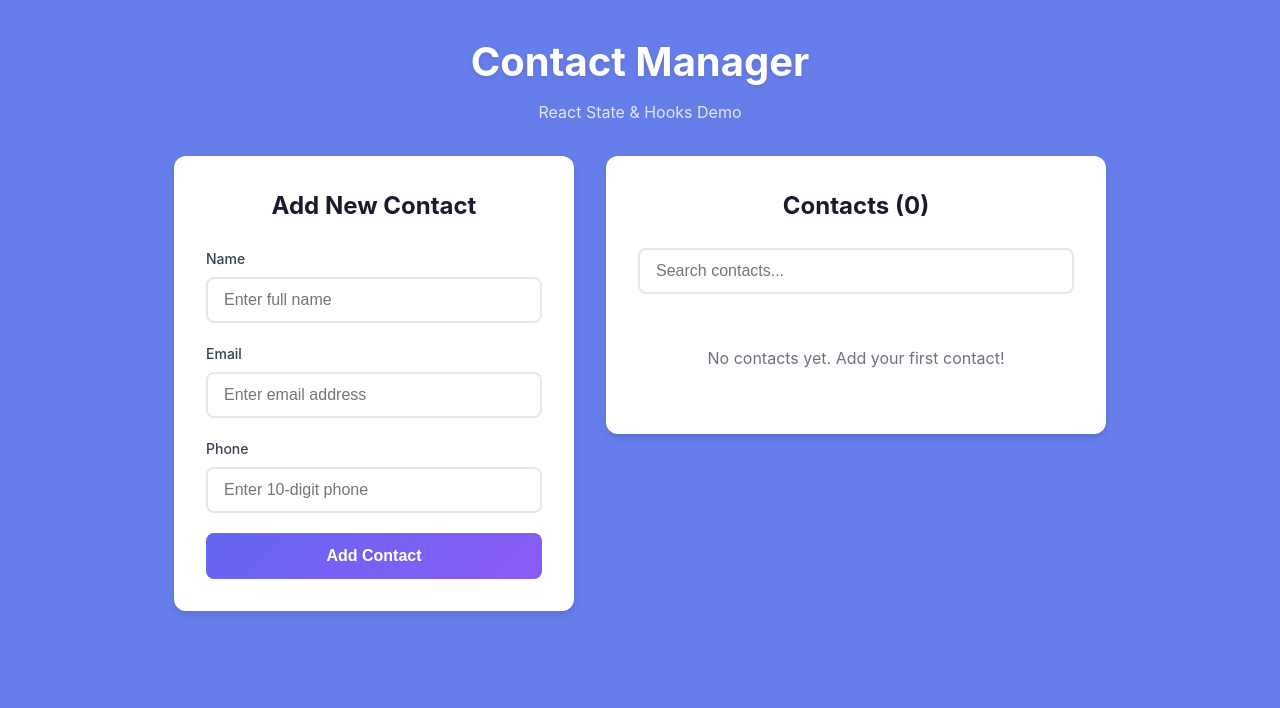
Test: App › deletes a contact from the list
# Add a contact first
Type "Delete Me" into the field labelled "Name" at (374, 300), box [206,277,542,323]
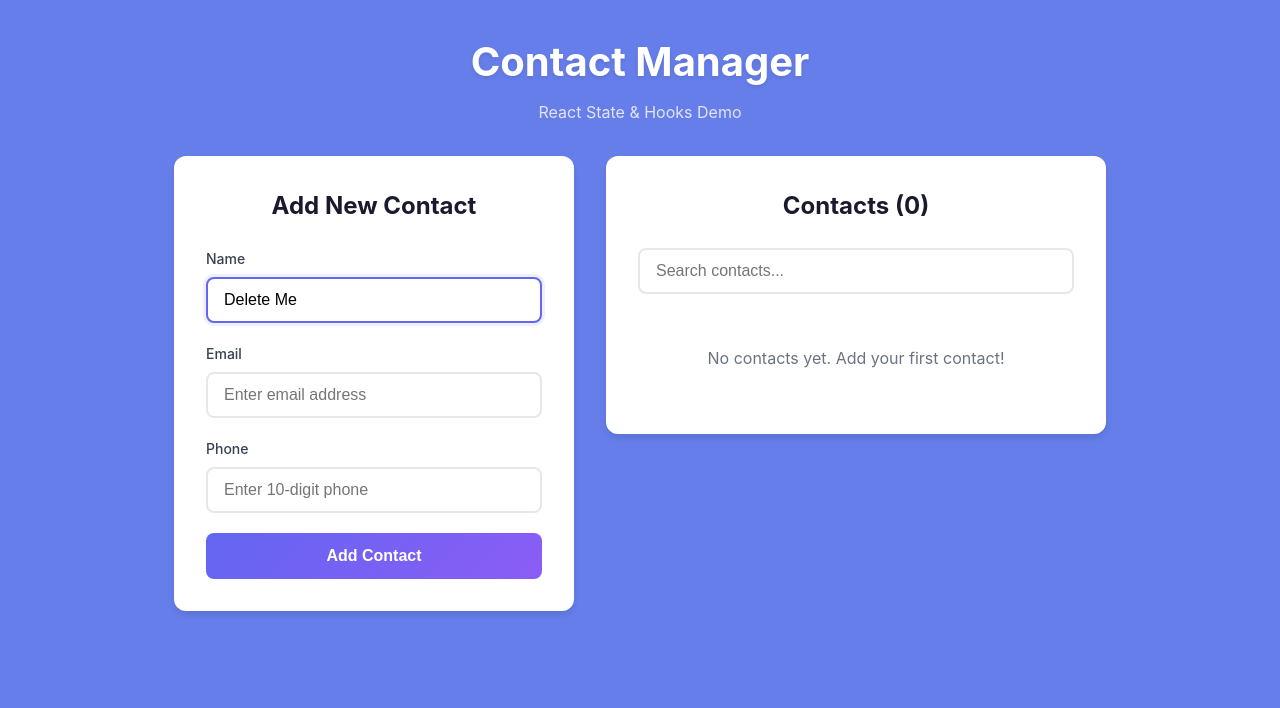
Type "delete@example.com" into the field labelled "Email" at (374, 395), box [206,372,542,418]
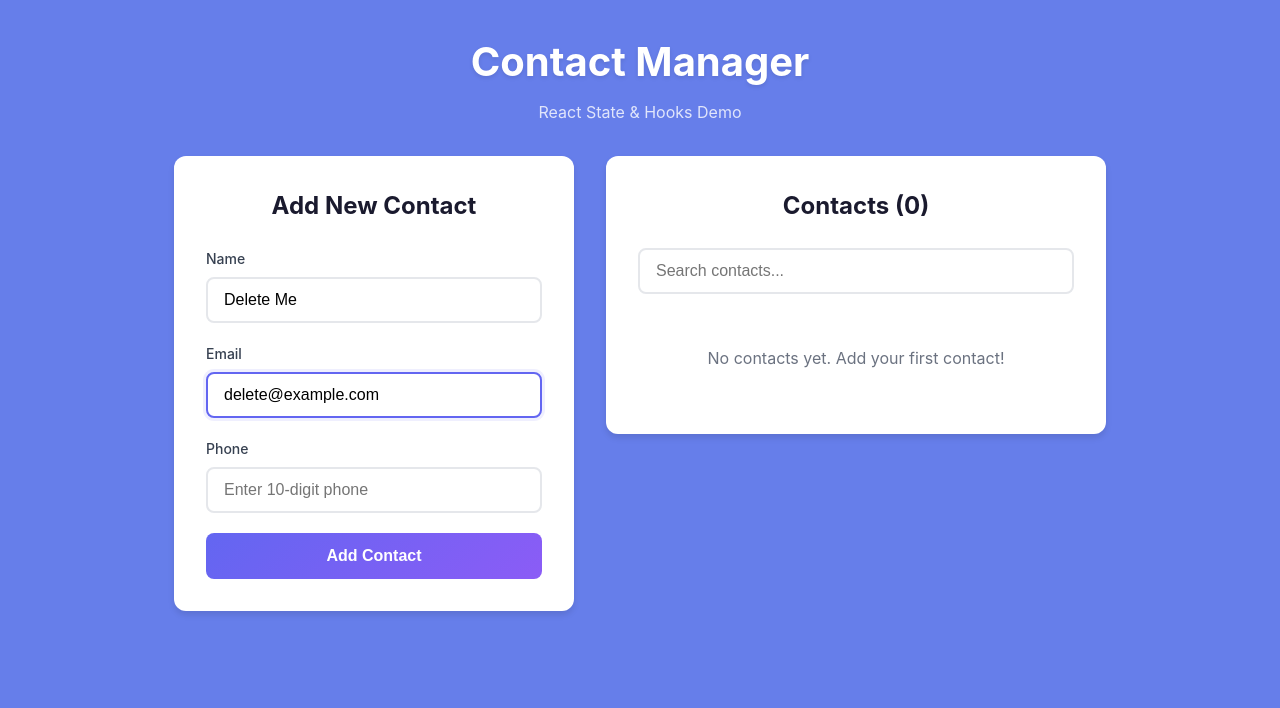
Type "1111111111" into the field labelled "Phone" at (374, 490), box [206,467,542,513]
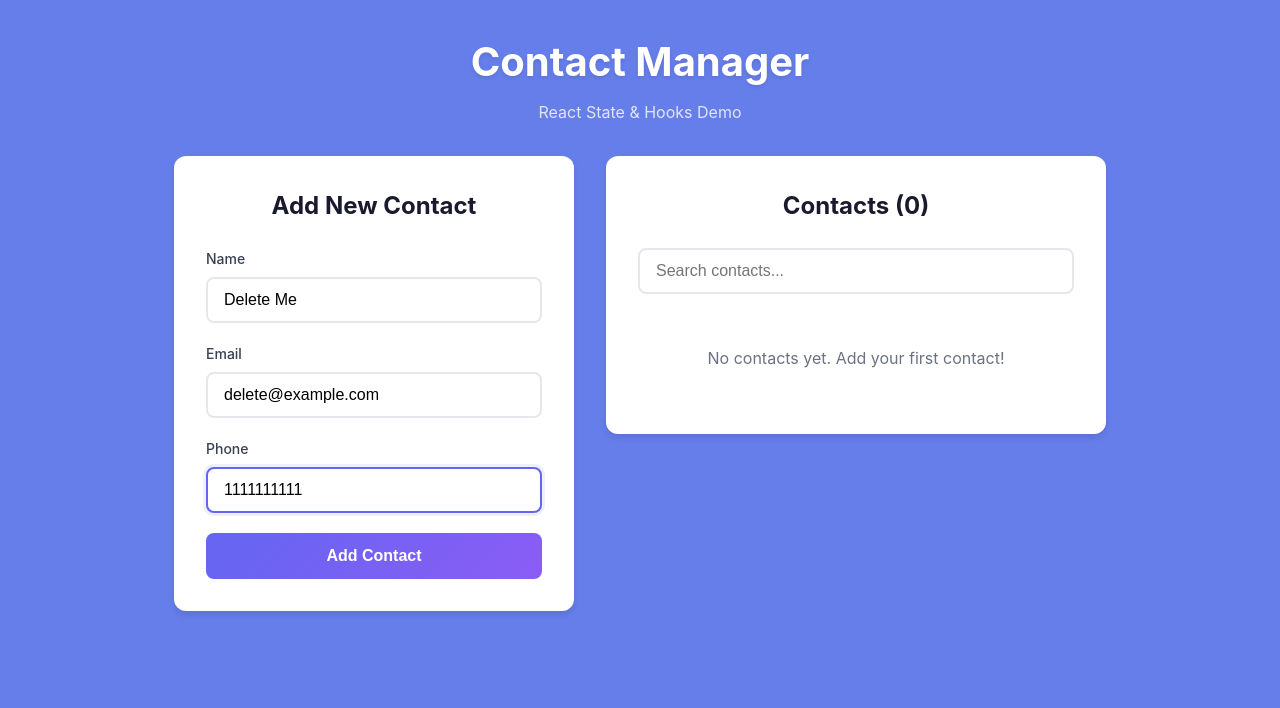
Click the button "Add Contact" at (374, 556), box [206,533,542,579]
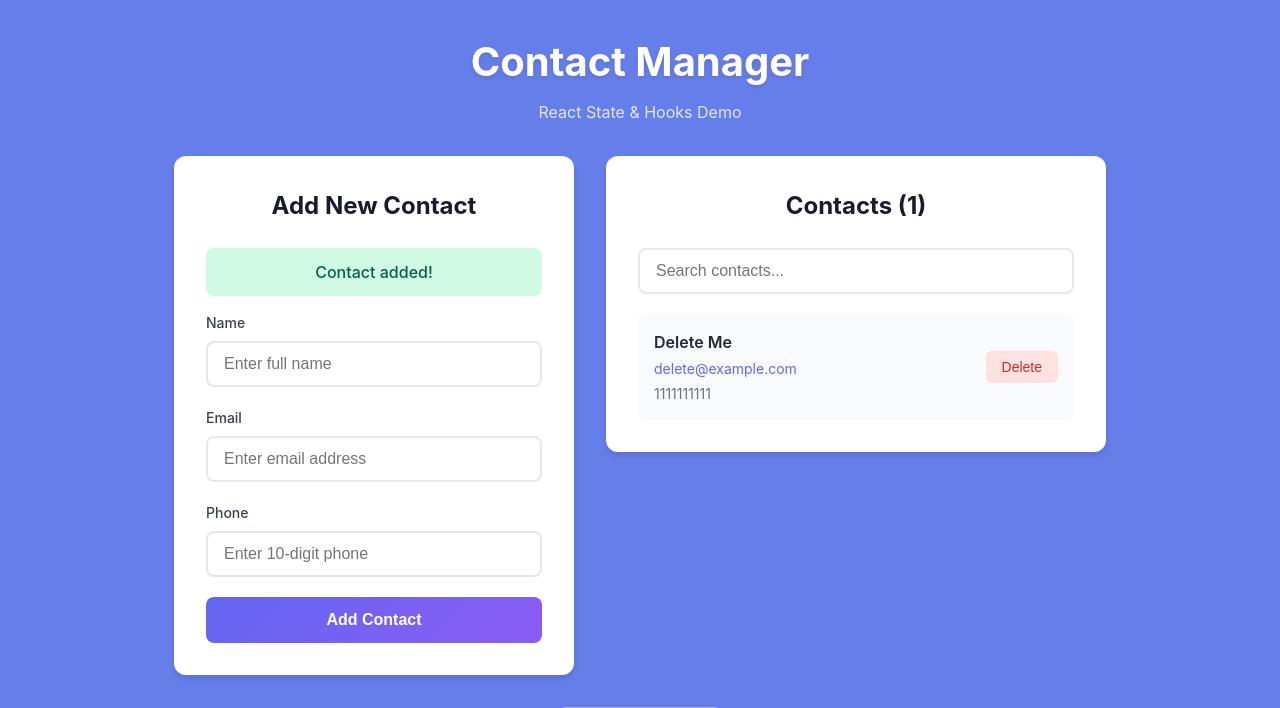
Check: the text "Delete Me" is shown, box [654,332,732,352]
# Delete the contact
Click the button with aria-label "delete delete me" at (1022, 367), box [986,351,1058,383]
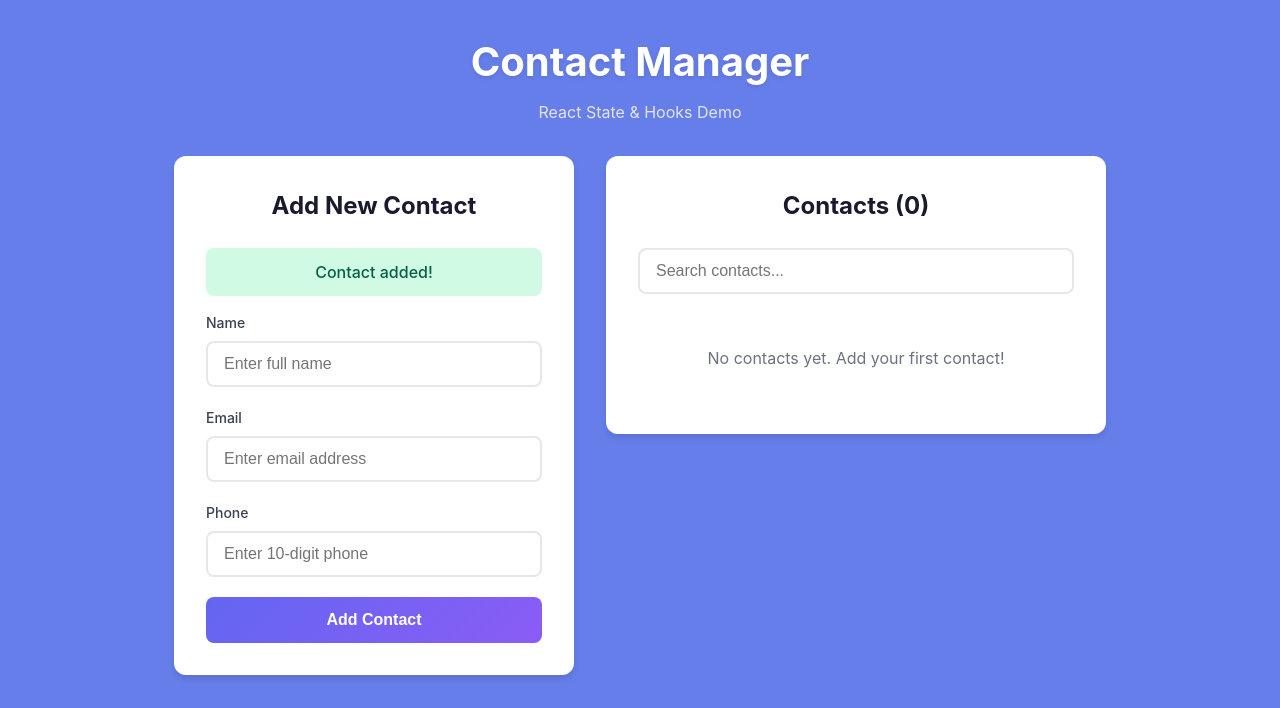
Check: the text "Delete Me" is gone
